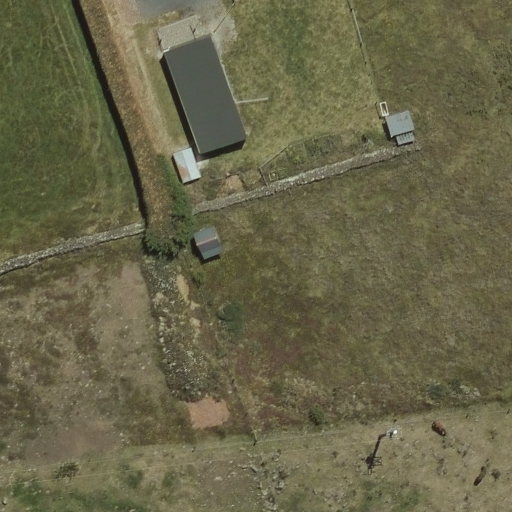DT: (367, 416, 401, 453)
